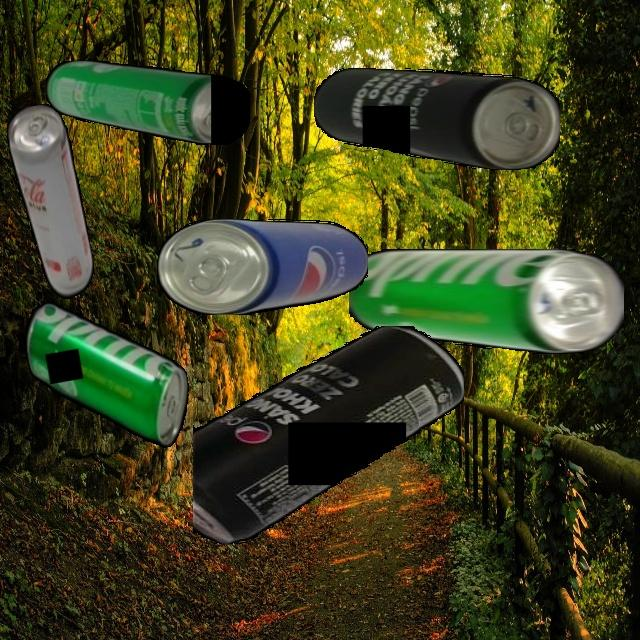debris: (192, 326, 464, 544), (19, 281, 198, 468), (348, 249, 624, 354), (313, 68, 560, 170), (157, 218, 368, 315), (3, 101, 99, 306), (45, 61, 250, 145)
